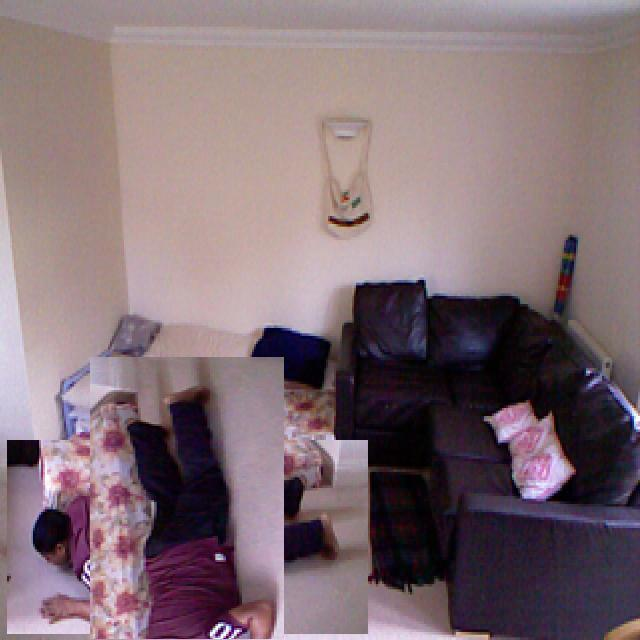Fall: (105, 362, 264, 640)
